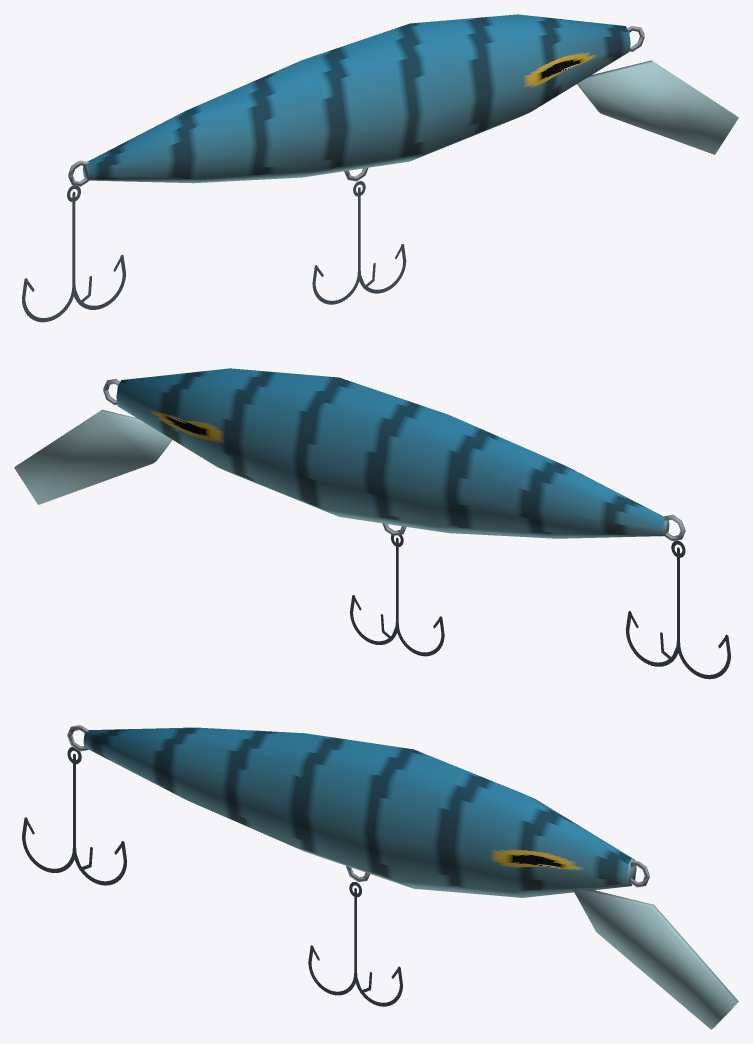
Rendered from minnow.glb.
3 views of the same model, one above another, from view 1: azimuth 30°, elevation 25°; view 2: azimuth 150°, elevation 25°; view 3: azimuth 330°, elevation 25° (orthographic).
Parts seen in each view (by area): view 1: minnow__minnow_body_MESH, minnow__Diving_lip_MESH, minnow__Treble_hook_ALPHA, minnow__Treble_hook_ALPHA.001; view 2: minnow__minnow_body_MESH, minnow__Diving_lip_MESH, minnow__Treble_hook_ALPHA, minnow__Treble_hook_ALPHA.001; view 3: minnow__minnow_body_MESH, minnow__Diving_lip_MESH, minnow__Treble_hook_ALPHA, minnow__Treble_hook_ALPHA.001.
Part boxes in pixels (<box>): minnow__minnow_body_MESH: <box>83,14,630,183</box>; minnow__Diving_lip_MESH: <box>577,60,738,154</box>; minnow__Treble_hook_ALPHA: <box>22,185,125,322</box>; minnow__Treble_hook_ALPHA.001: <box>312,181,406,304</box>; minnow__minnow_body_MESH: <box>116,368,669,538</box>; minnow__Diving_lip_MESH: <box>14,409,172,504</box>; minnow__Treble_hook_ALPHA: <box>625,540,730,679</box>; minnow__Treble_hook_ALPHA.001: <box>350,534,444,656</box>; minnow__minnow_body_MESH: <box>83,727,636,897</box>; minnow__Diving_lip_MESH: <box>573,889,738,1029</box>; minnow__Treble_hook_ALPHA: <box>22,747,127,885</box>; minnow__Treble_hook_ALPHA.001: <box>308,882,402,1006</box>.
Bounding box in the file's own units: 0.12 × 0.0427 × 0.014.
4 materials, 2 textured.
